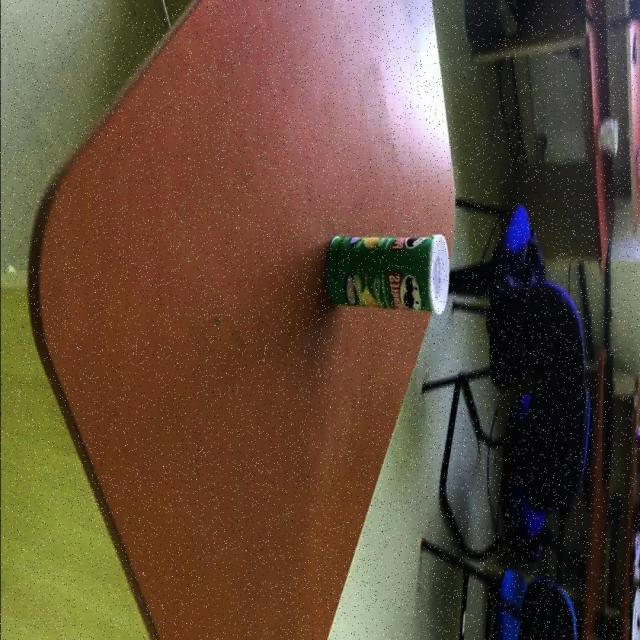Pringles: (326, 235, 451, 316)
